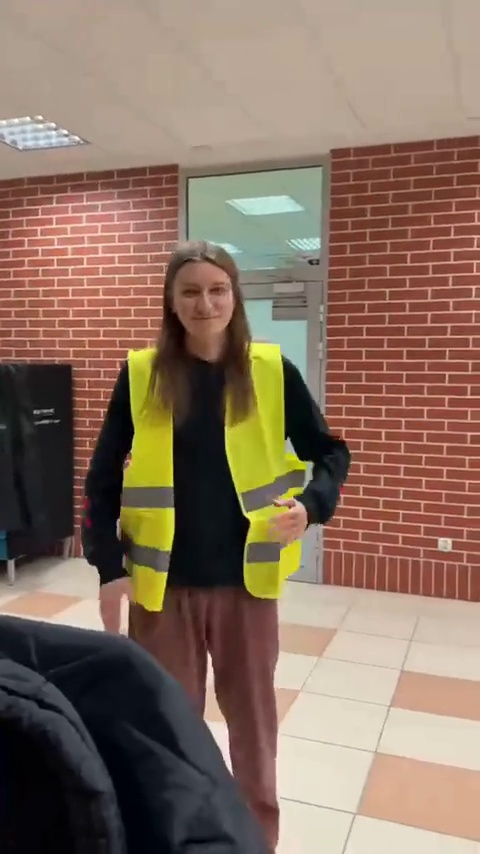vest: (87, 237, 347, 836)
